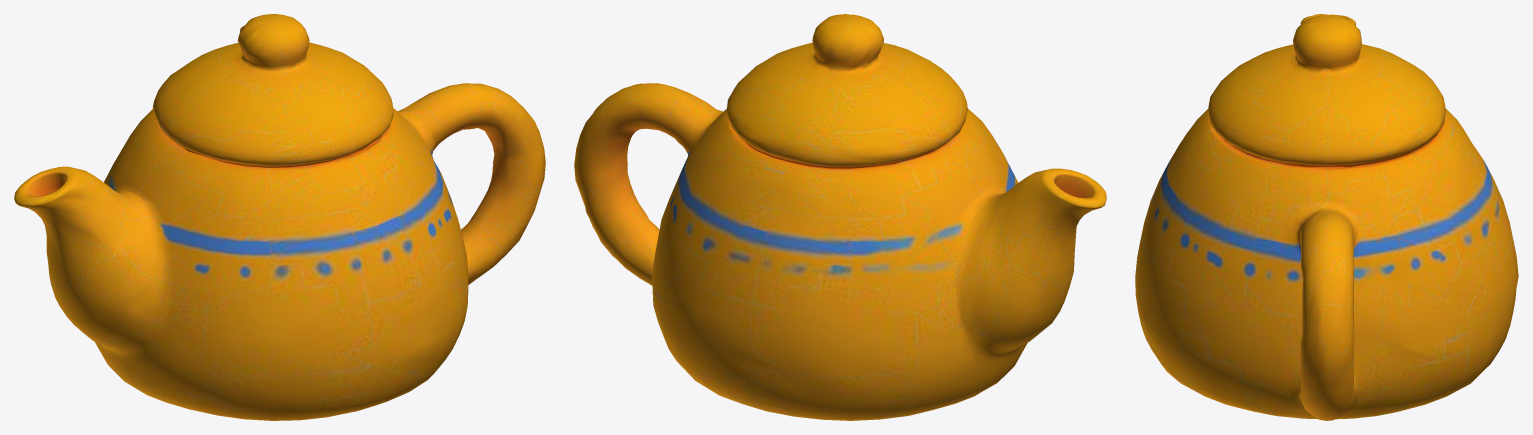
Rendered from item06_yellow_teapot.glb.
The picture shows the model from 3 angles, left to right: view 1: azimuth 30°, elevation 25°; view 2: azimuth 150°, elevation 25°; view 3: azimuth 270°, elevation 25°; orthographic projection.
Parts seen in each view (by area): view 1: geometry_0; view 2: geometry_0; view 3: geometry_0.
Boxes of the visible parts, box(x1,y1,x2,y2) form: geometry_0: box(14, 14, 545, 420); geometry_0: box(574, 14, 1106, 420); geometry_0: box(1135, 14, 1518, 420).
Size of the model in its own units: 0.9536 by 0.5889 by 0.6069.
Materials: 1 (1 with a texture image).
